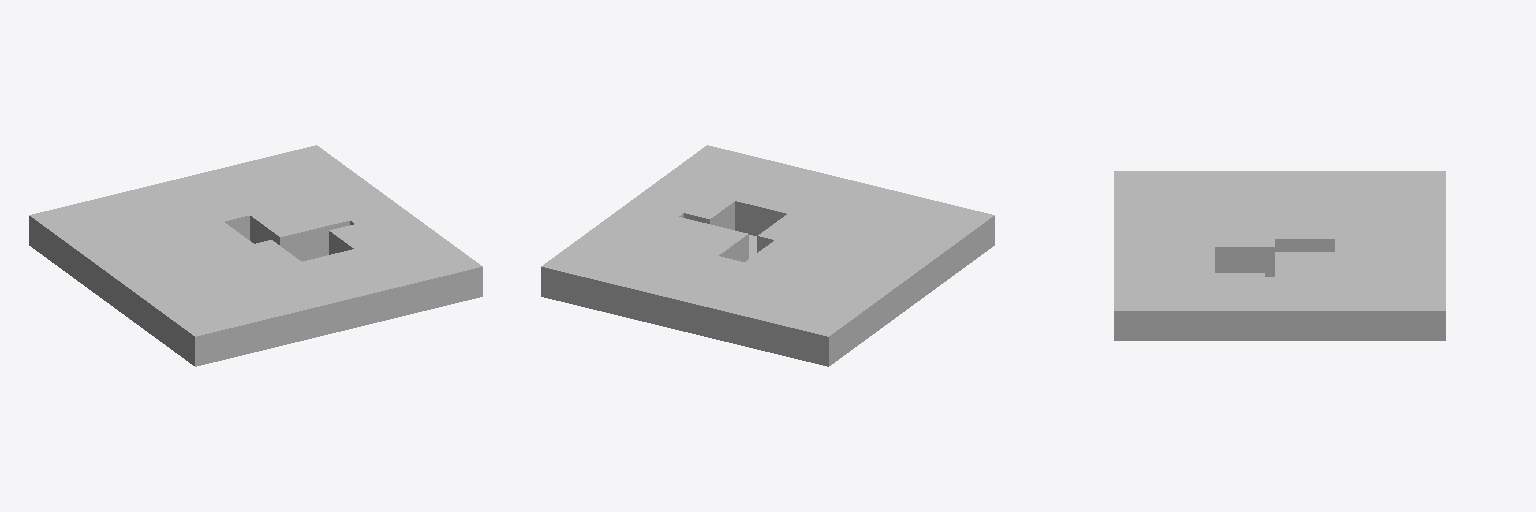
Rendered from TutorialLevel.obj.
3 renders of one model, left to right at view 1: azimuth 30°, elevation 25°; view 2: azimuth 150°, elevation 25°; view 3: azimuth 270°, elevation 25°, orthographic.
Parts seen in each view (by area): view 1: Plane; view 2: Plane; view 3: Plane.
Part boxes in pixels (x1,y1,x2,y2): Plane: (29, 145, 482, 366); Plane: (541, 145, 994, 366); Plane: (1114, 171, 1445, 340).
Bounding box in the file's own units: 100 × 10 × 100.